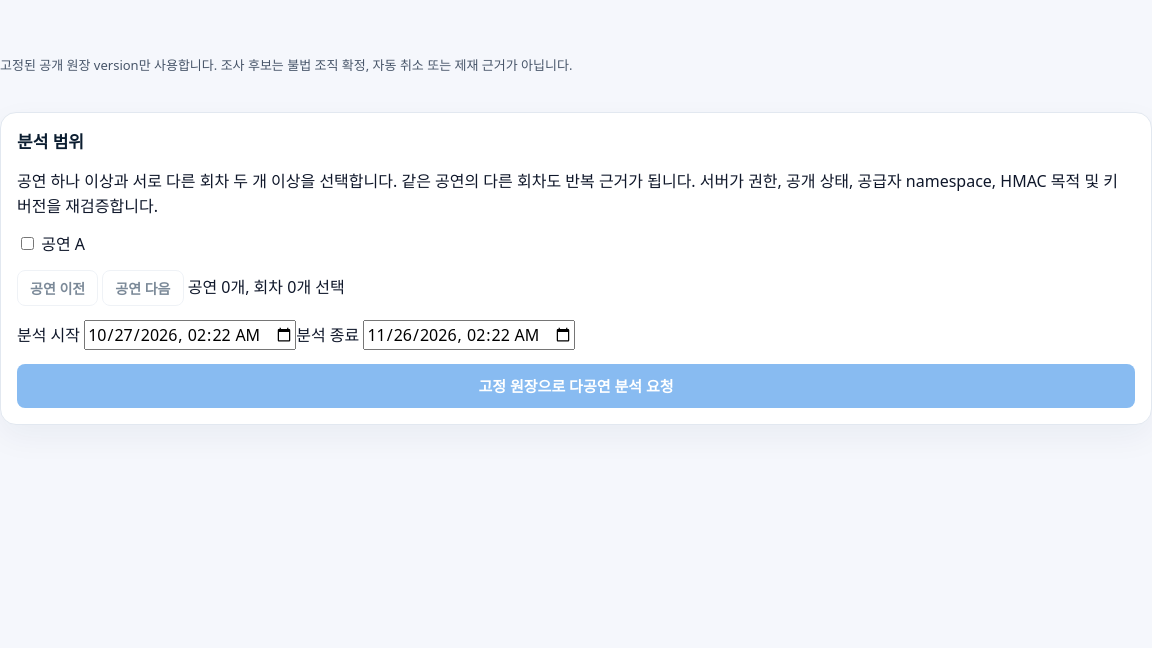
Test: 다회차 조사 화면 › 퇴역 점수 모델 작업은 읽기 전용으로 안내하고 재시도 버튼을 숨긴다
The width and height of the screenshot is (1152, 648).
What coordinates should you click on to do the following:
click the checkbox labelled "공연 A"
I would click on:
 (28, 244)
Its box is [21,238,34,250].
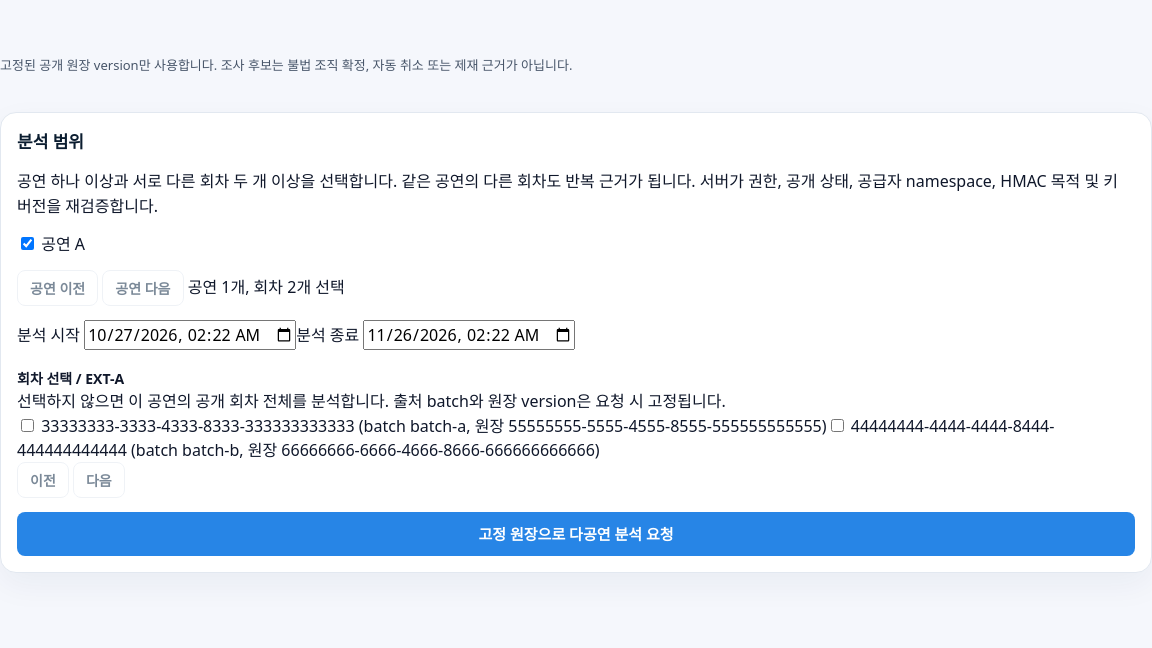
Check: the checkbox labelled "44444444-4444-4444-8444-444444444444" is shown, box [831,419,844,432]
Check: the button "고정 원장으로 다공연 분석 요청" is enabled
회차 수가 반영되어 버튼이 활성화된 뒤에만 요청합니다.
What coordinates should you click on to do the following:
click the button "고정 원장으로 다공연 분석 요청"
I would click on:
 (576, 534)
Its box is [17,512,1135,556].
(page scrolled)
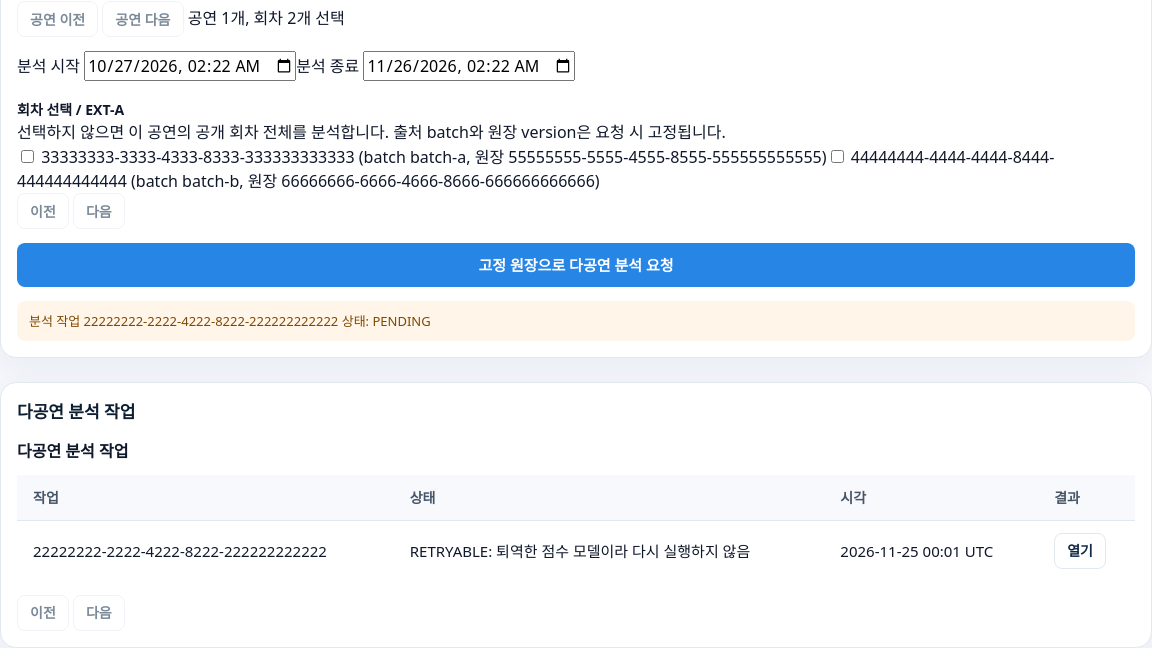
Check: the text "RETRYABLE: 퇴역한 점수 모델이라 다시 실행하지 않음" is shown, box [410,541,750,561]
What coordinates should you click on to do the following:
click the button "열기"
I would click on:
 (1080, 551)
Its box is [1054,533,1106,569].
(page scrolled)
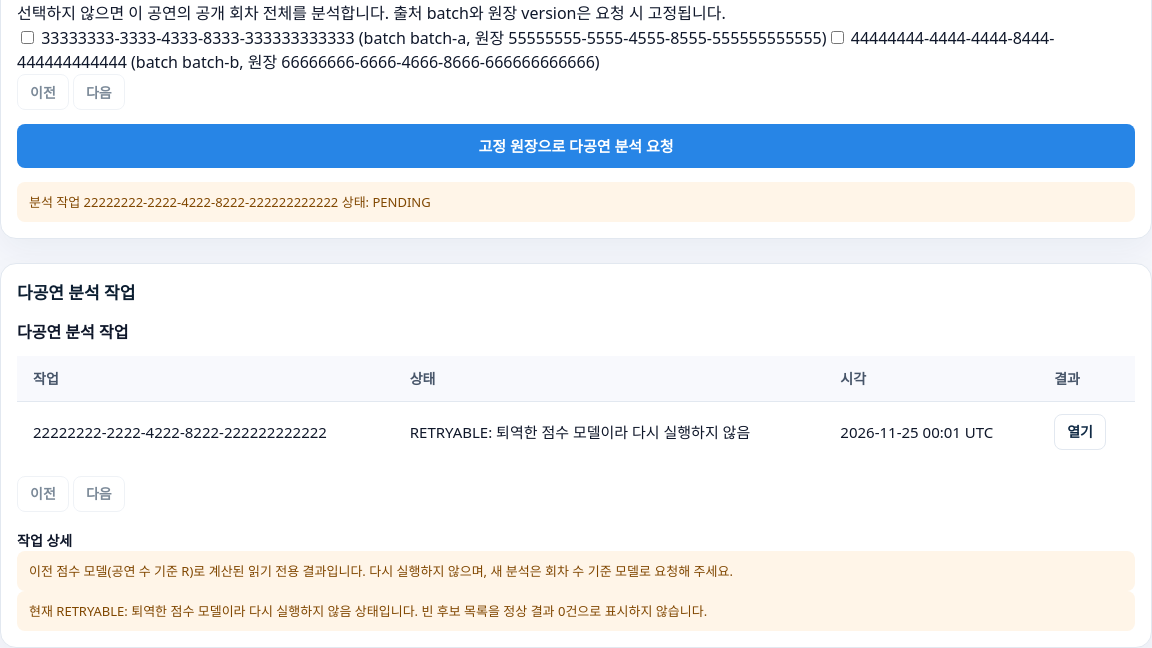
Check: the text "이전 점수 모델(공연 수 기준 R)로 계산된 읽기 전용 결과입니다" is shown, box [29,562,733,580]
